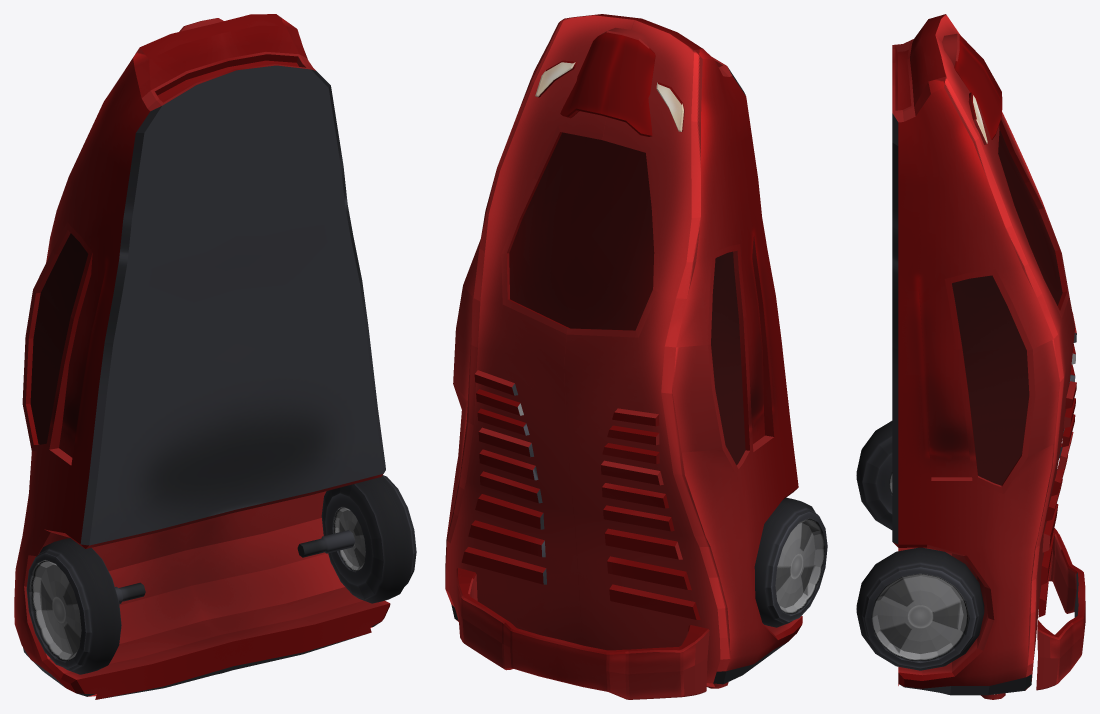
File: PlayerCar.FBX
3 views of the same model, side by side, from view 1: azimuth 30°, elevation 25°; view 2: azimuth 150°, elevation 25°; view 3: azimuth 270°, elevation 25° (orthographic). The views are drawn at different scales.
Parts seen in each view (by area): view 1: PlayerCar003, PlayerCarWheels; view 2: PlayerCar003, PlayerCarWheels; view 3: PlayerCar003, PlayerCarWheels.
Part boxes in pixels (x1,y1,x2,y2): PlayerCar003: (14, 14, 390, 699); PlayerCarWheels: (26, 475, 416, 674); PlayerCar003: (445, 14, 802, 699); PlayerCarWheels: (754, 497, 827, 627); PlayerCar003: (892, 14, 1085, 699); PlayerCarWheels: (856, 421, 984, 670).
Size of the model in its own units: 11.37 by 7.23 by 21.43.
